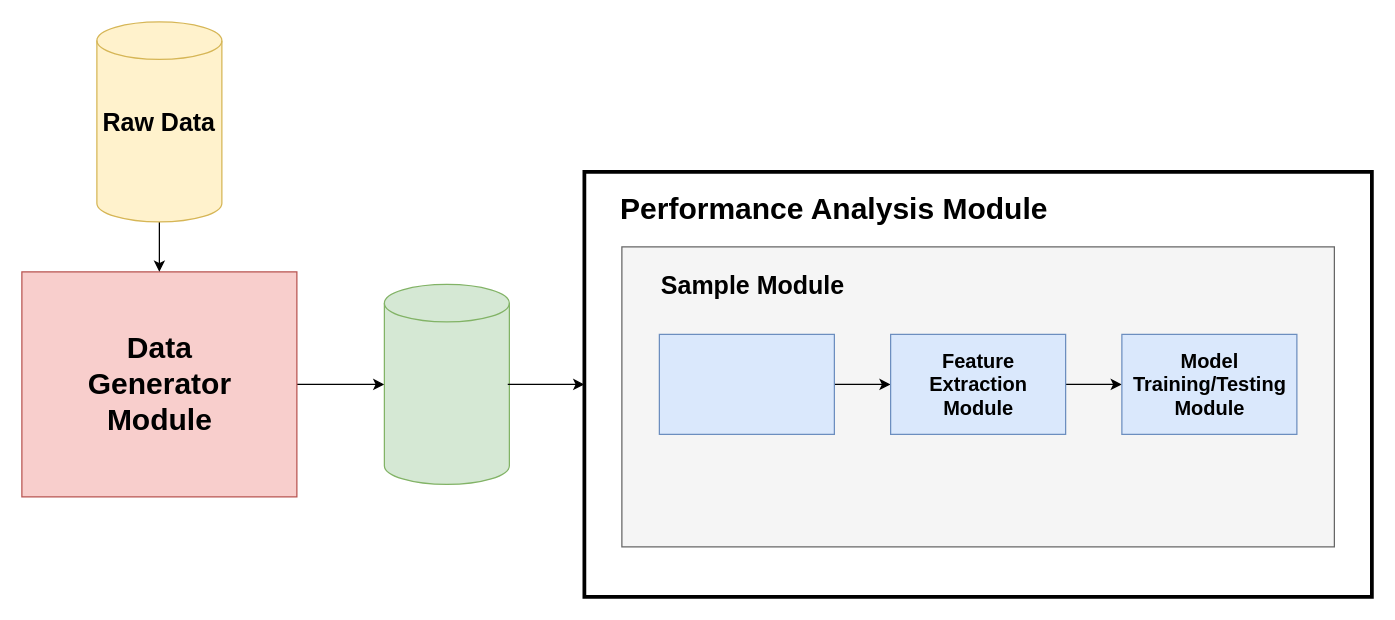
This 1395x620 diagram has some shape labels left out. The box of each missing label's shape, as (x1, y1, x2, y2) in pixels:
Dataset Samples: (383, 283, 509, 484)
Preprocessing Module: (658, 333, 834, 434)
